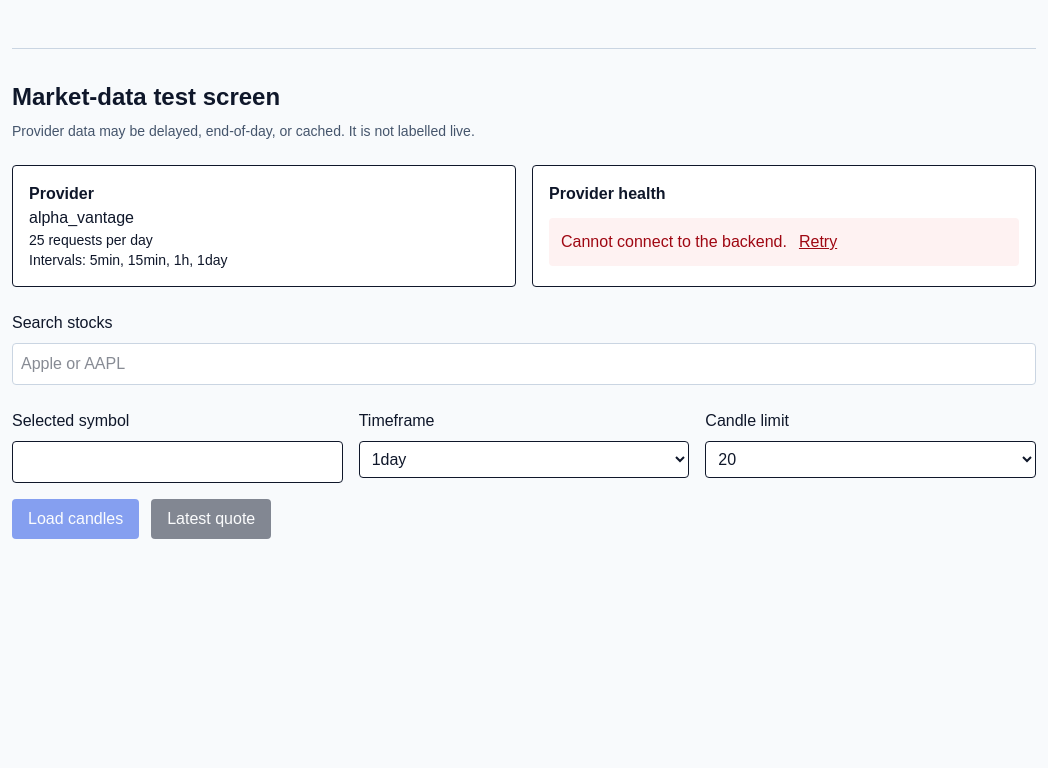
Scenario: MarketDataScreen › shows provider and empty-candle errors
Expected: the text "Cannot connect to the backend. Retry" is shown, [549,218,1019,266]
Type "AAPL" into the field labelled "Selected symbol" at (177, 462), box [12,441,343,483]
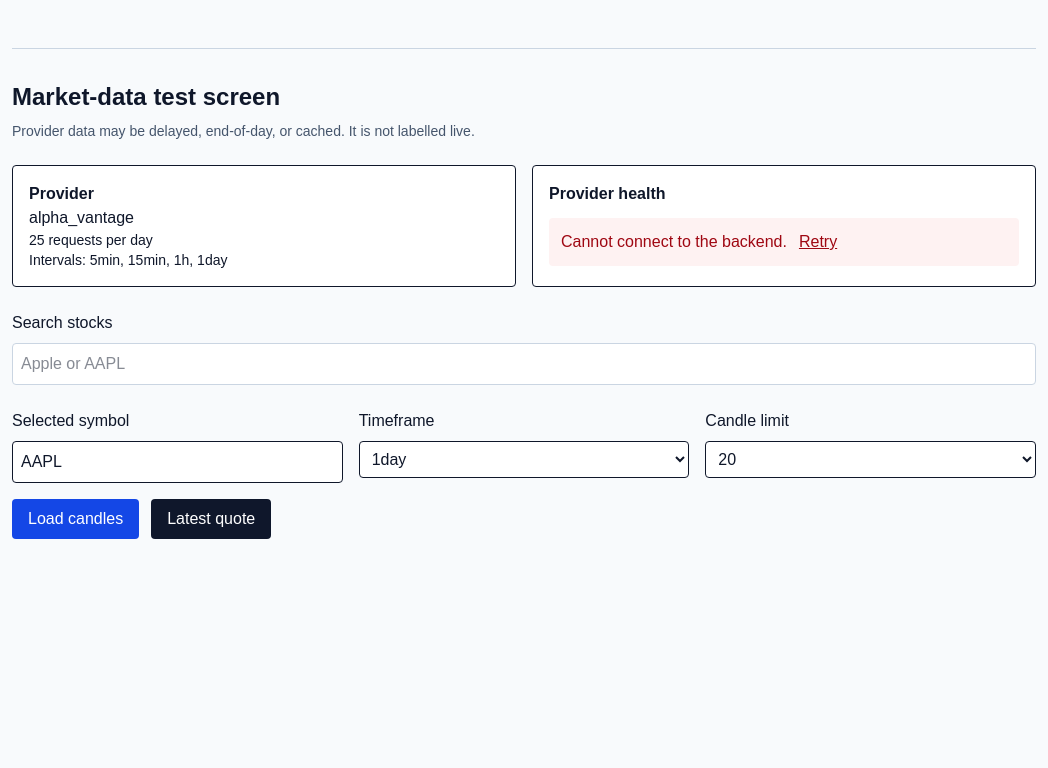
Click the button "Load candles" at (76, 519), box [12,499,139,539]
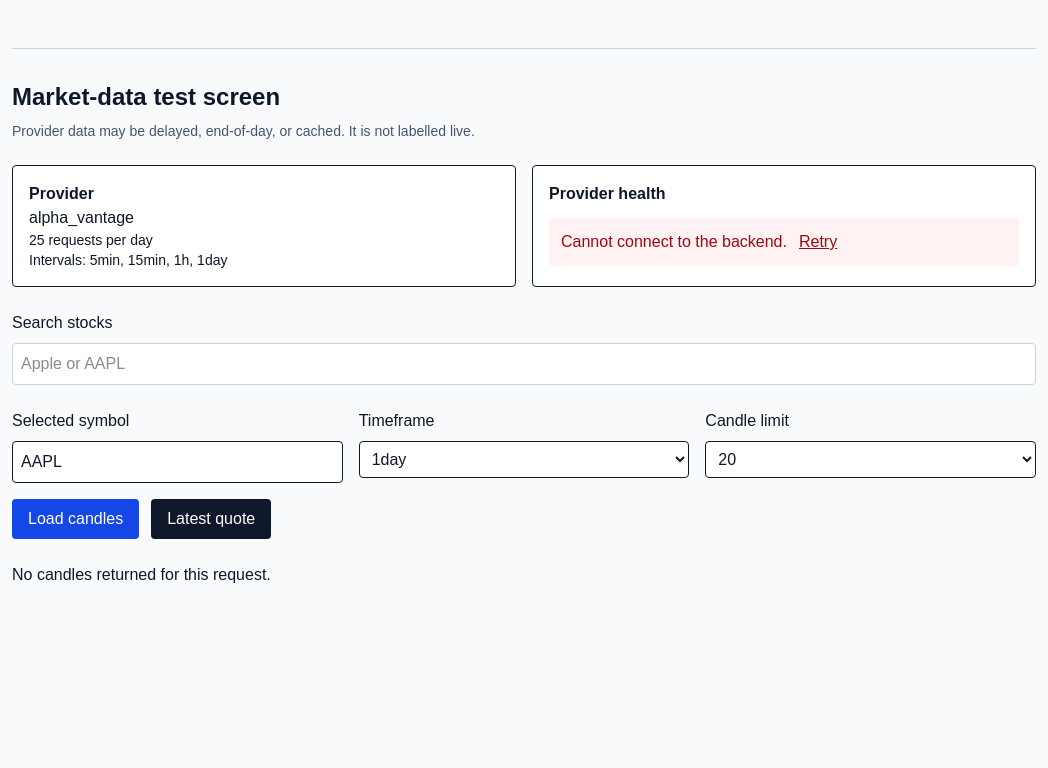
Result: the text "No candles returned for this request." is shown at [12,566,271,583]
